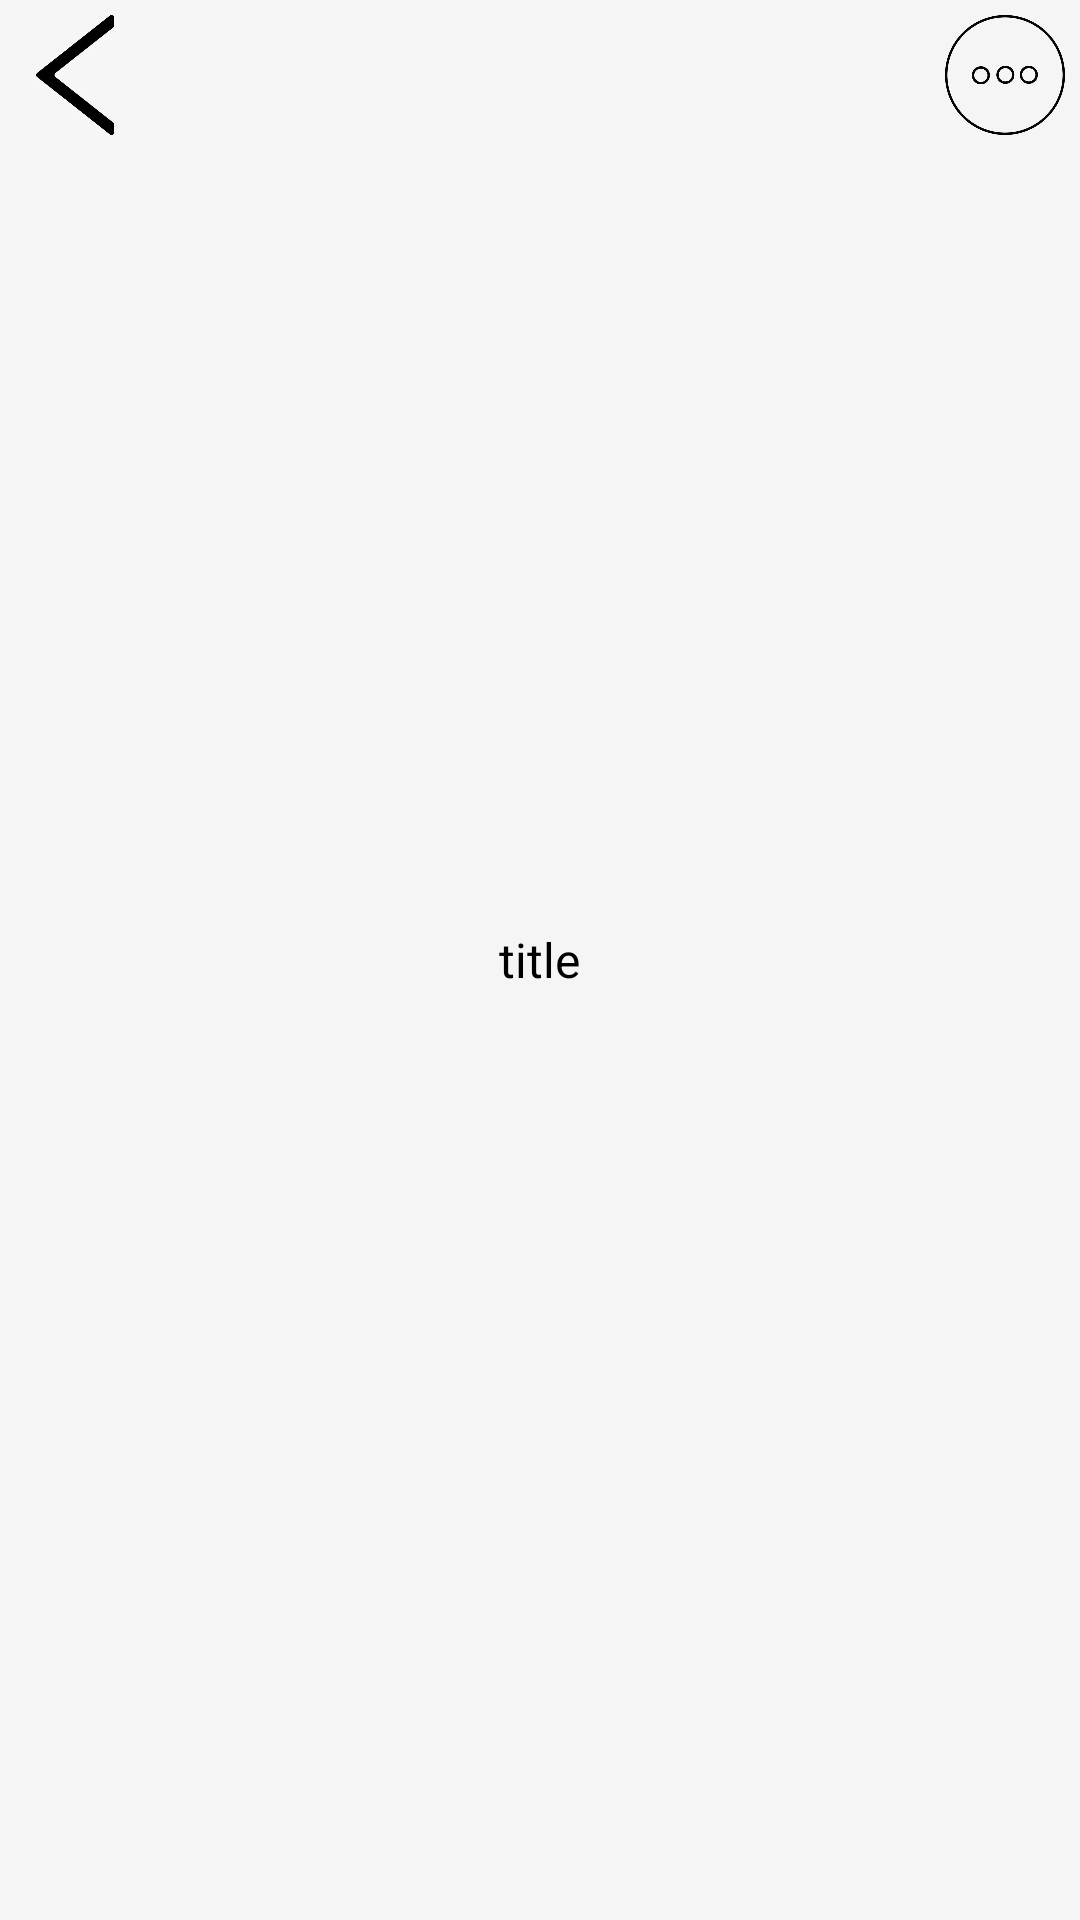

Where to tap for icons on this 1080 × 1920 app screen, as [x,y]:
back: [75,75]
menu: [1005,75]
